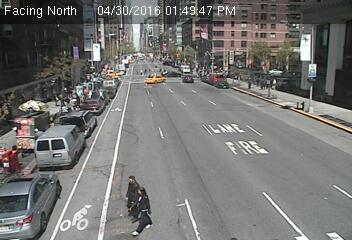neg: (51, 127, 97, 188), (66, 6, 92, 41), (157, 4, 183, 38), (172, 105, 191, 131), (304, 96, 322, 121), (97, 107, 109, 123), (238, 31, 249, 46)
pos: (124, 186, 161, 234)
